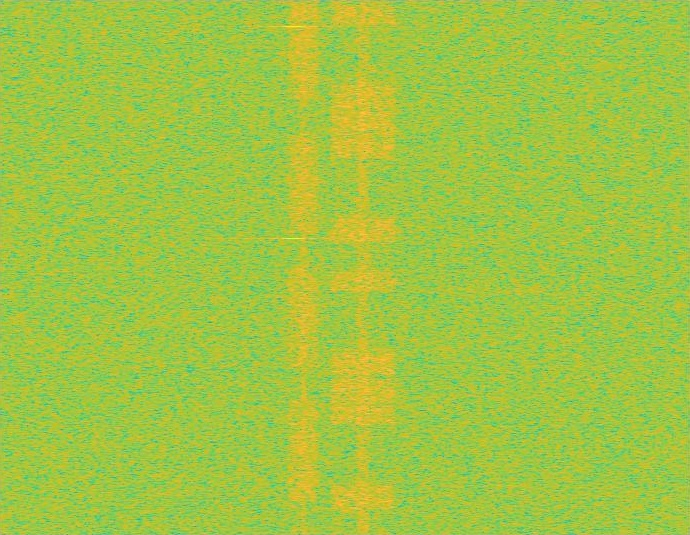5G: (287, 0, 321, 534)
DSSS: (355, 0, 371, 534), (300, 0, 308, 534)
LTE: (329, 0, 398, 534)
Radar: (286, 0, 300, 534)
